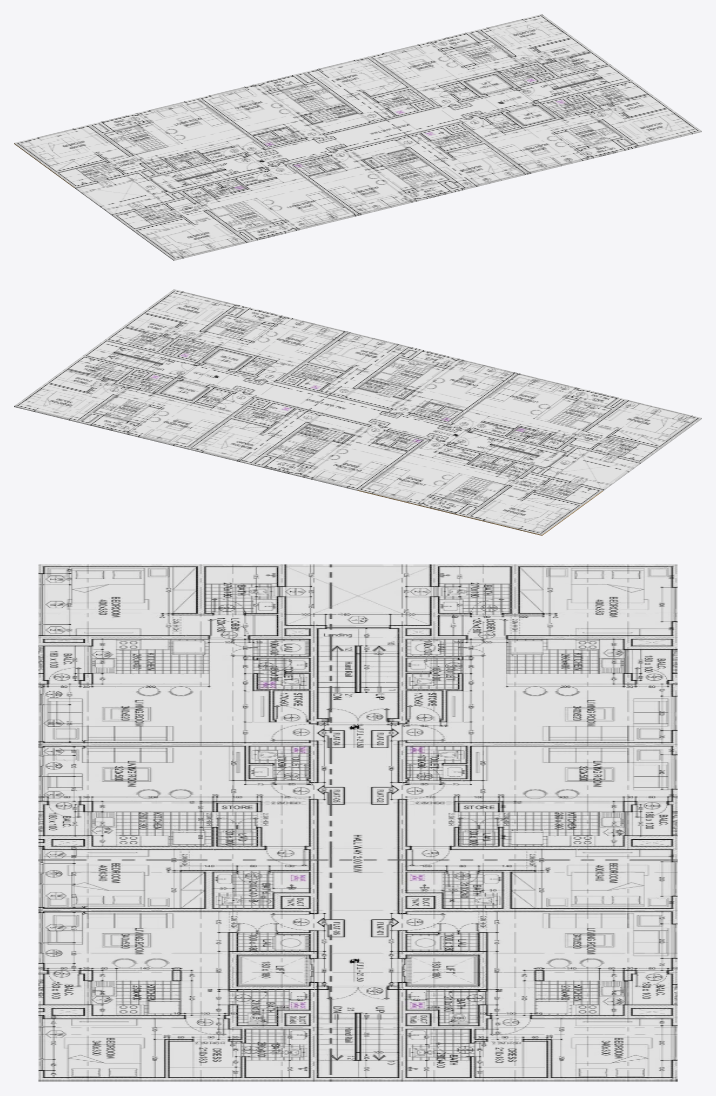
The model's file is Penthouse plans.compressed.glb.
3 renders of one model, top to bottom at view 1: azimuth 30°, elevation 25°; view 2: azimuth 150°, elevation 25°; view 3: azimuth 270°, elevation 25°, orthographic. The views are drawn at different scales.
Visible parts, largest first — view 1: HALL WAY.006, flat-04.006, flat-03.006, flat-06.006, flat-01.006, flat-05.006, flat-02.006; view 2: HALL WAY.006, flat-03.006, flat-04.006, flat-01.006, flat-06.006, flat-02.006, flat-05.006; view 3: HALL WAY.006, flat-04.006, flat-03.006, flat-06.006, flat-01.006, flat-05.006, flat-02.006.
Boxes of the visible parts, x1=… form: HALL WAY.006: x1=74, y1=64, x2=632, y2=215; flat-04.006: x1=113, y1=164, x2=358, y2=260; flat-03.006: x1=14, y1=98, x2=266, y2=187; flat-06.006: x1=459, y1=80, x2=701, y2=174; flat-01.006: x1=368, y1=14, x2=610, y2=106; flat-05.006: x1=289, y1=123, x2=527, y2=215; flat-02.006: x1=199, y1=56, x2=436, y2=147; HALL WAY.006: x1=83, y1=340, x2=640, y2=490; flat-03.006: x1=357, y1=439, x2=602, y2=535; flat-04.006: x1=449, y1=373, x2=701, y2=462; flat-01.006: x1=14, y1=356, x2=256, y2=449; flat-06.006: x1=105, y1=289, x2=347, y2=381; flat-02.006: x1=187, y1=398, x2=425, y2=490; flat-05.006: x1=279, y1=331, x2=516, y2=423; HALL WAY.006: x1=282, y1=564, x2=434, y2=1081; flat-04.006: x1=38, y1=564, x2=314, y2=744; flat-03.006: x1=403, y1=564, x2=677, y2=744; flat-06.006: x1=38, y1=910, x2=314, y2=1081; flat-01.006: x1=402, y1=910, x2=677, y2=1081; flat-05.006: x1=38, y1=744, x2=314, y2=910; flat-02.006: x1=402, y1=744, x2=677, y2=910.
Size of the model in its own units: 10.9 by 0.0173 by 5.71.
Materials: 2 (2 with a texture image).
